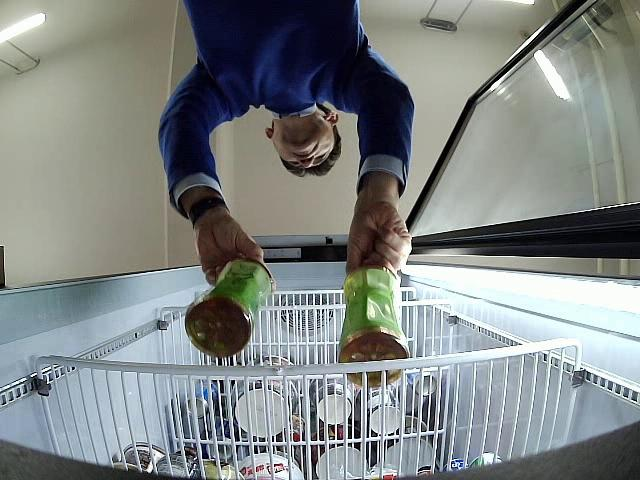00_hand: (347, 203, 414, 274), (194, 216, 264, 282)
19_17cha: (186, 254, 273, 357), (340, 267, 412, 389)
